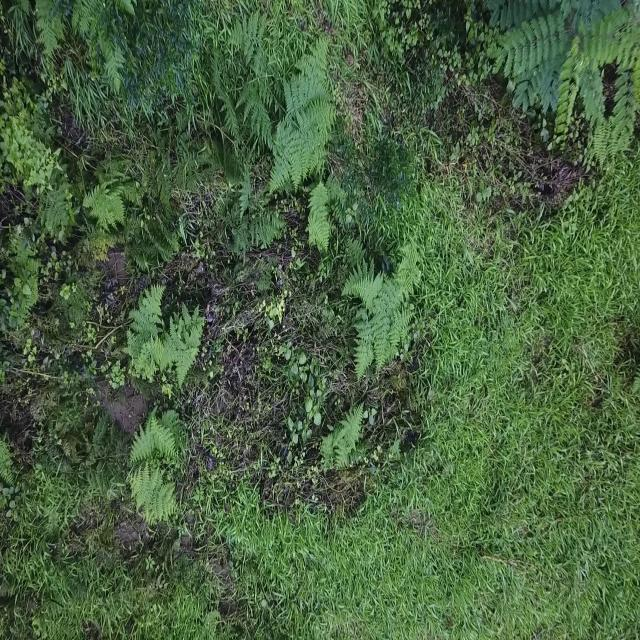Mysore-Thorn-Weed: (479, 0, 640, 170)
